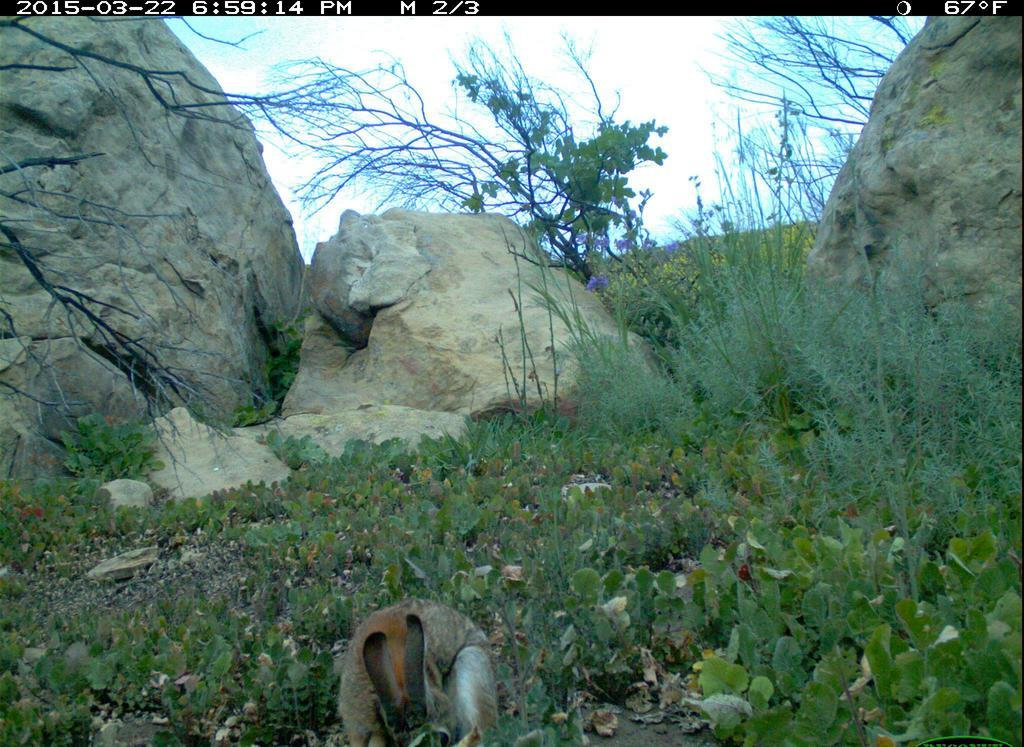rabbit: (326, 593, 509, 747)
